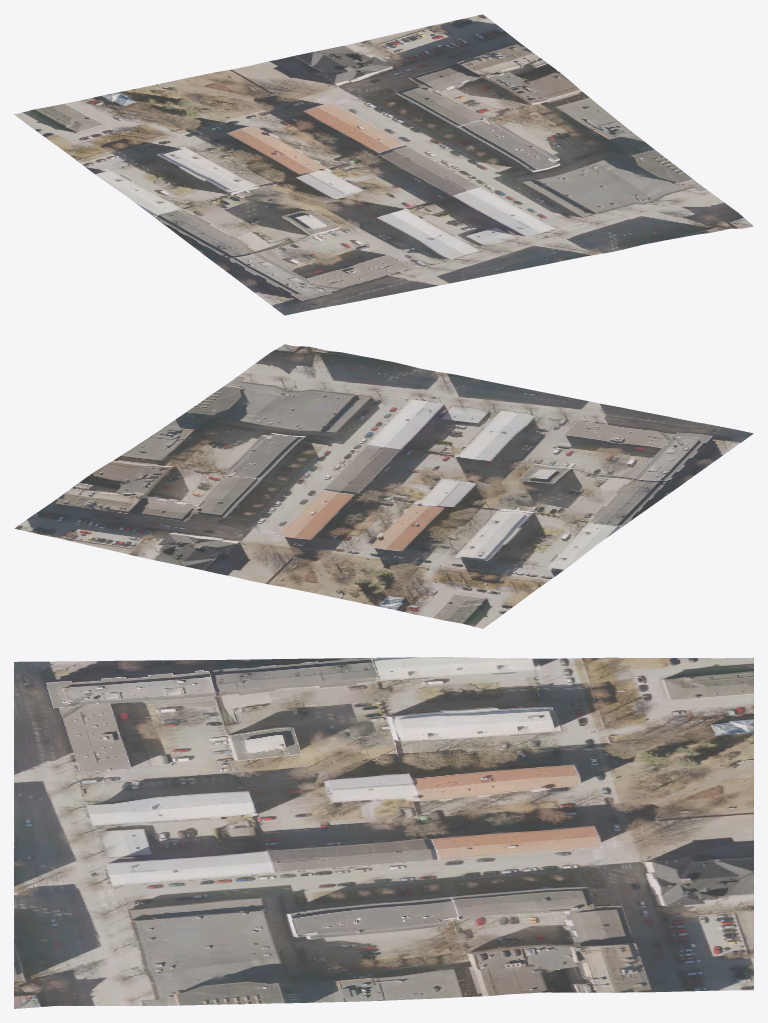
Rendered from CM_Terrain_24486568_6820613.fbx.
The picture shows the model from 3 angles, top to bottom: view 1: azimuth 30°, elevation 25°; view 2: azimuth 150°, elevation 25°; view 3: azimuth 270°, elevation 25°; orthographic projection. The views are drawn at different scales.
Parts seen in each view (by area): view 1: CM_Terrain_24486568_6820613_LOD0; view 2: CM_Terrain_24486568_6820613_LOD0; view 3: CM_Terrain_24486568_6820613_LOD0.
Boxes of the visible parts, x1=… form: CM_Terrain_24486568_6820613_LOD0: x1=14, y1=14, x2=753, y2=315; CM_Terrain_24486568_6820613_LOD0: x1=14, y1=344, x2=753, y2=628; CM_Terrain_24486568_6820613_LOD0: x1=14, y1=657, x2=753, y2=1008.
Size of what is drawn, in the model's own units: 205 by 11.96 by 205.
